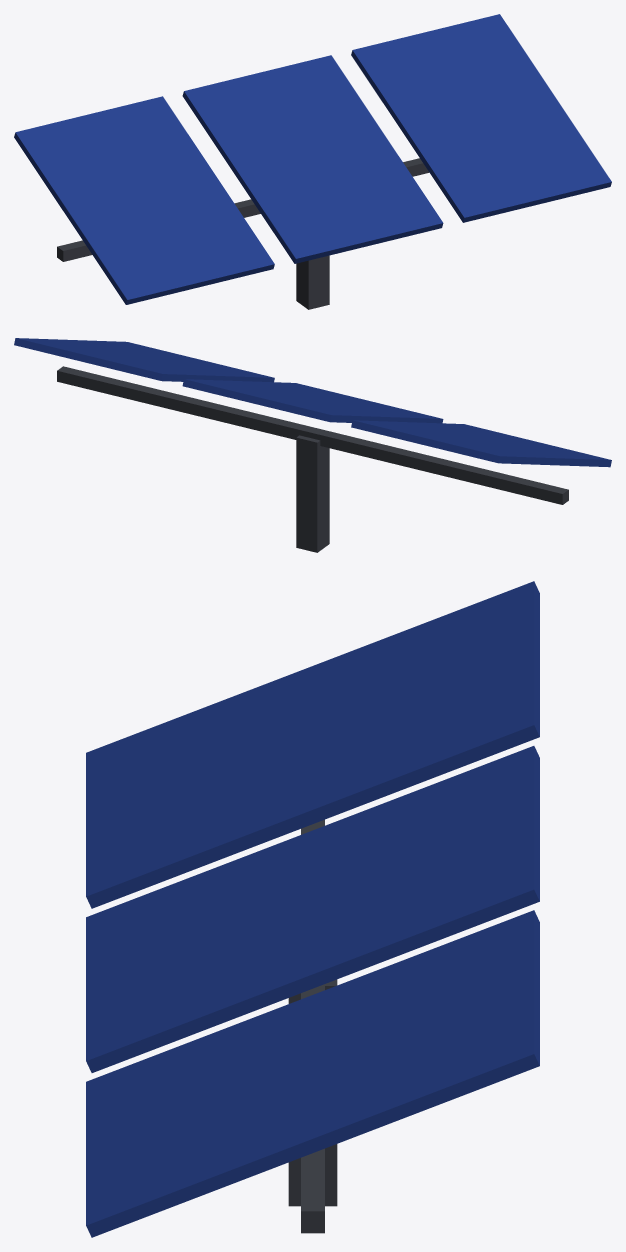
Rendered from colony-solar-array.glb.
3 views of the same model, one above another, from view 1: azimuth 30°, elevation 25°; view 2: azimuth 150°, elevation 25°; view 3: azimuth 270°, elevation 25° (orthographic). The views are drawn at different scales.
Visible parts, largest first — view 1: solar_array; view 2: solar_array; view 3: solar_array.
Boxes of the visible parts, bbox=[...] form: solar_array: bbox=[14, 14, 611, 309]; solar_array: bbox=[14, 338, 611, 552]; solar_array: bbox=[86, 581, 539, 1237].
Bounding box in the file's own units: 4.8 × 1.72 × 1.87.
